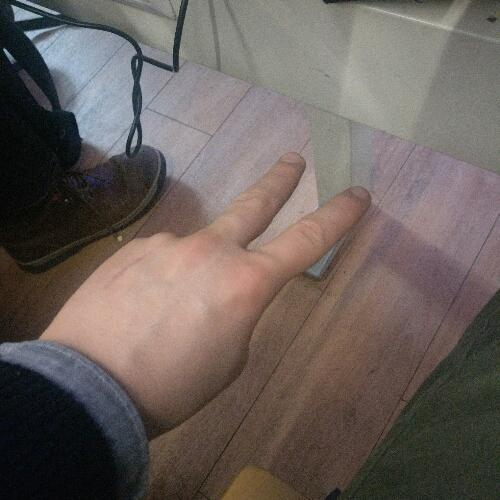scissors: (49, 146, 379, 434)
